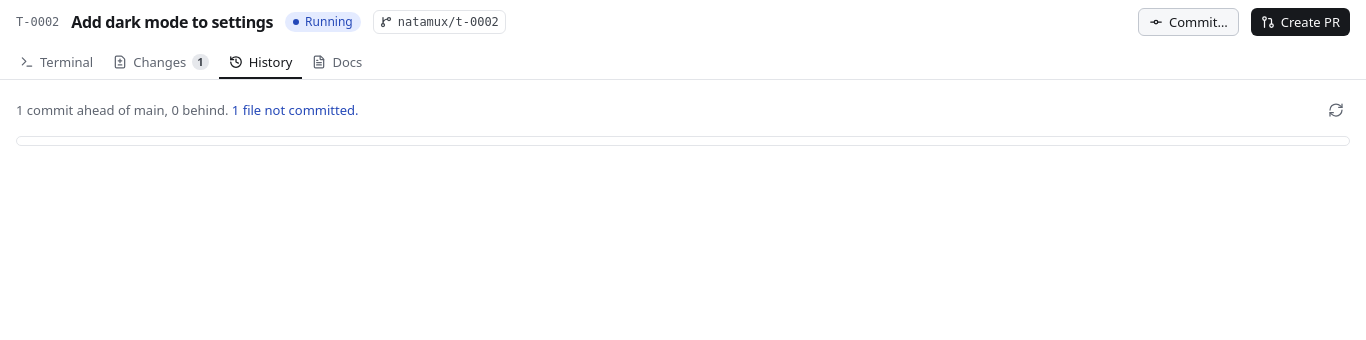
it: ChangesView › the commit message draft › drafts once when Commit… opens an empty box
Click the button "Commit…" at (1188, 22), box top-left (1138, 8), bottom-right (1239, 36)
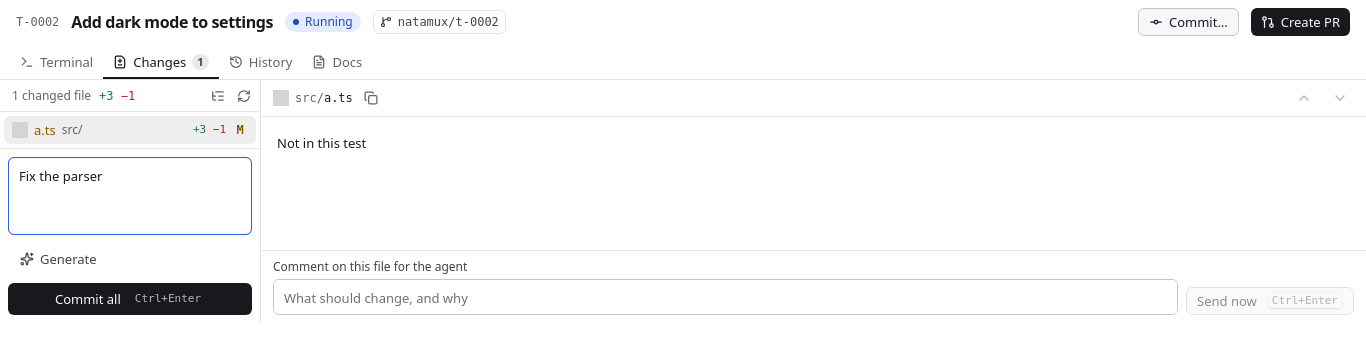
Check: the text box named "Commit message" holds "Fix the parser", box top-left (8, 157), bottom-right (252, 235)
